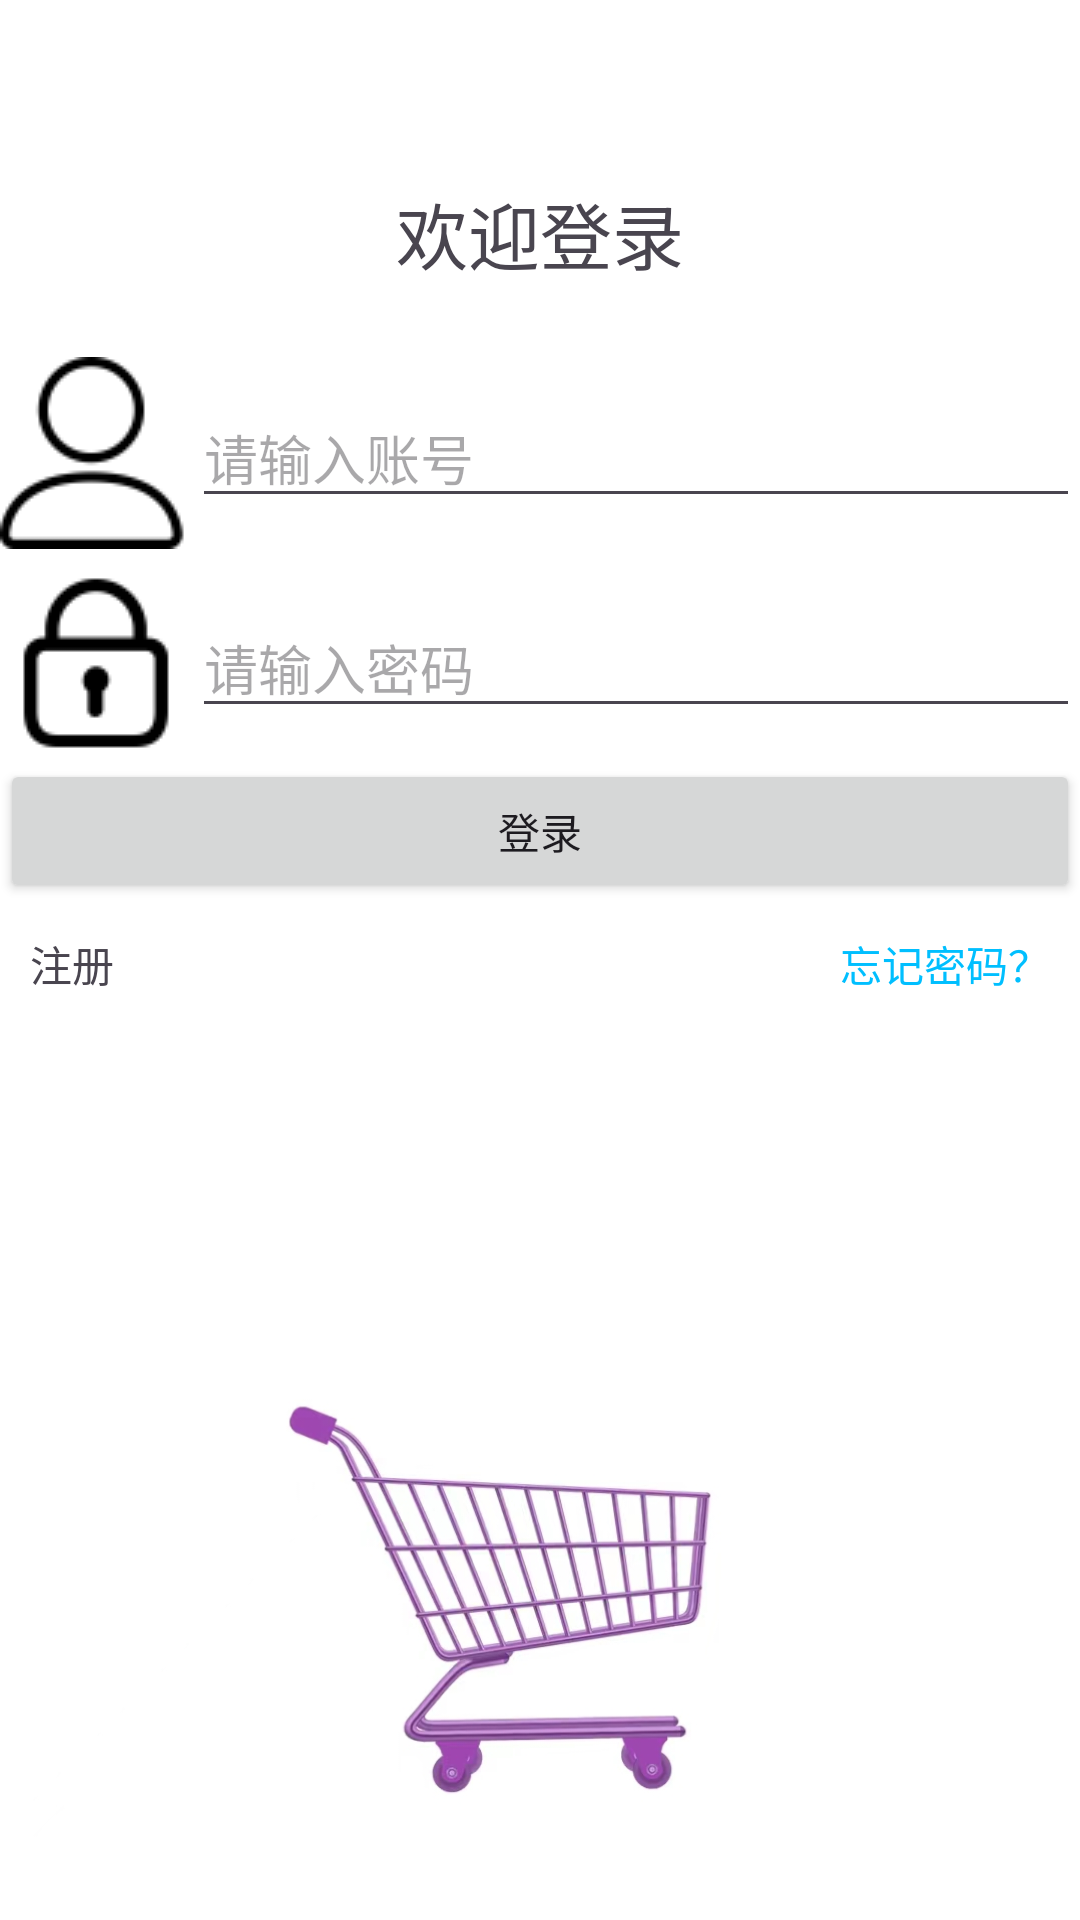

Icons on this 1080 × 1920 Android screen, each with the point to tap as (x,y):
lock: (96,663)
user: (92,453)
